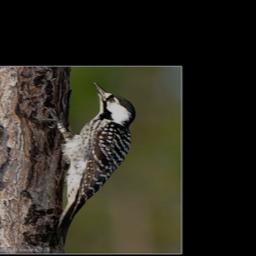Woodpecker: (37, 82, 136, 248)
